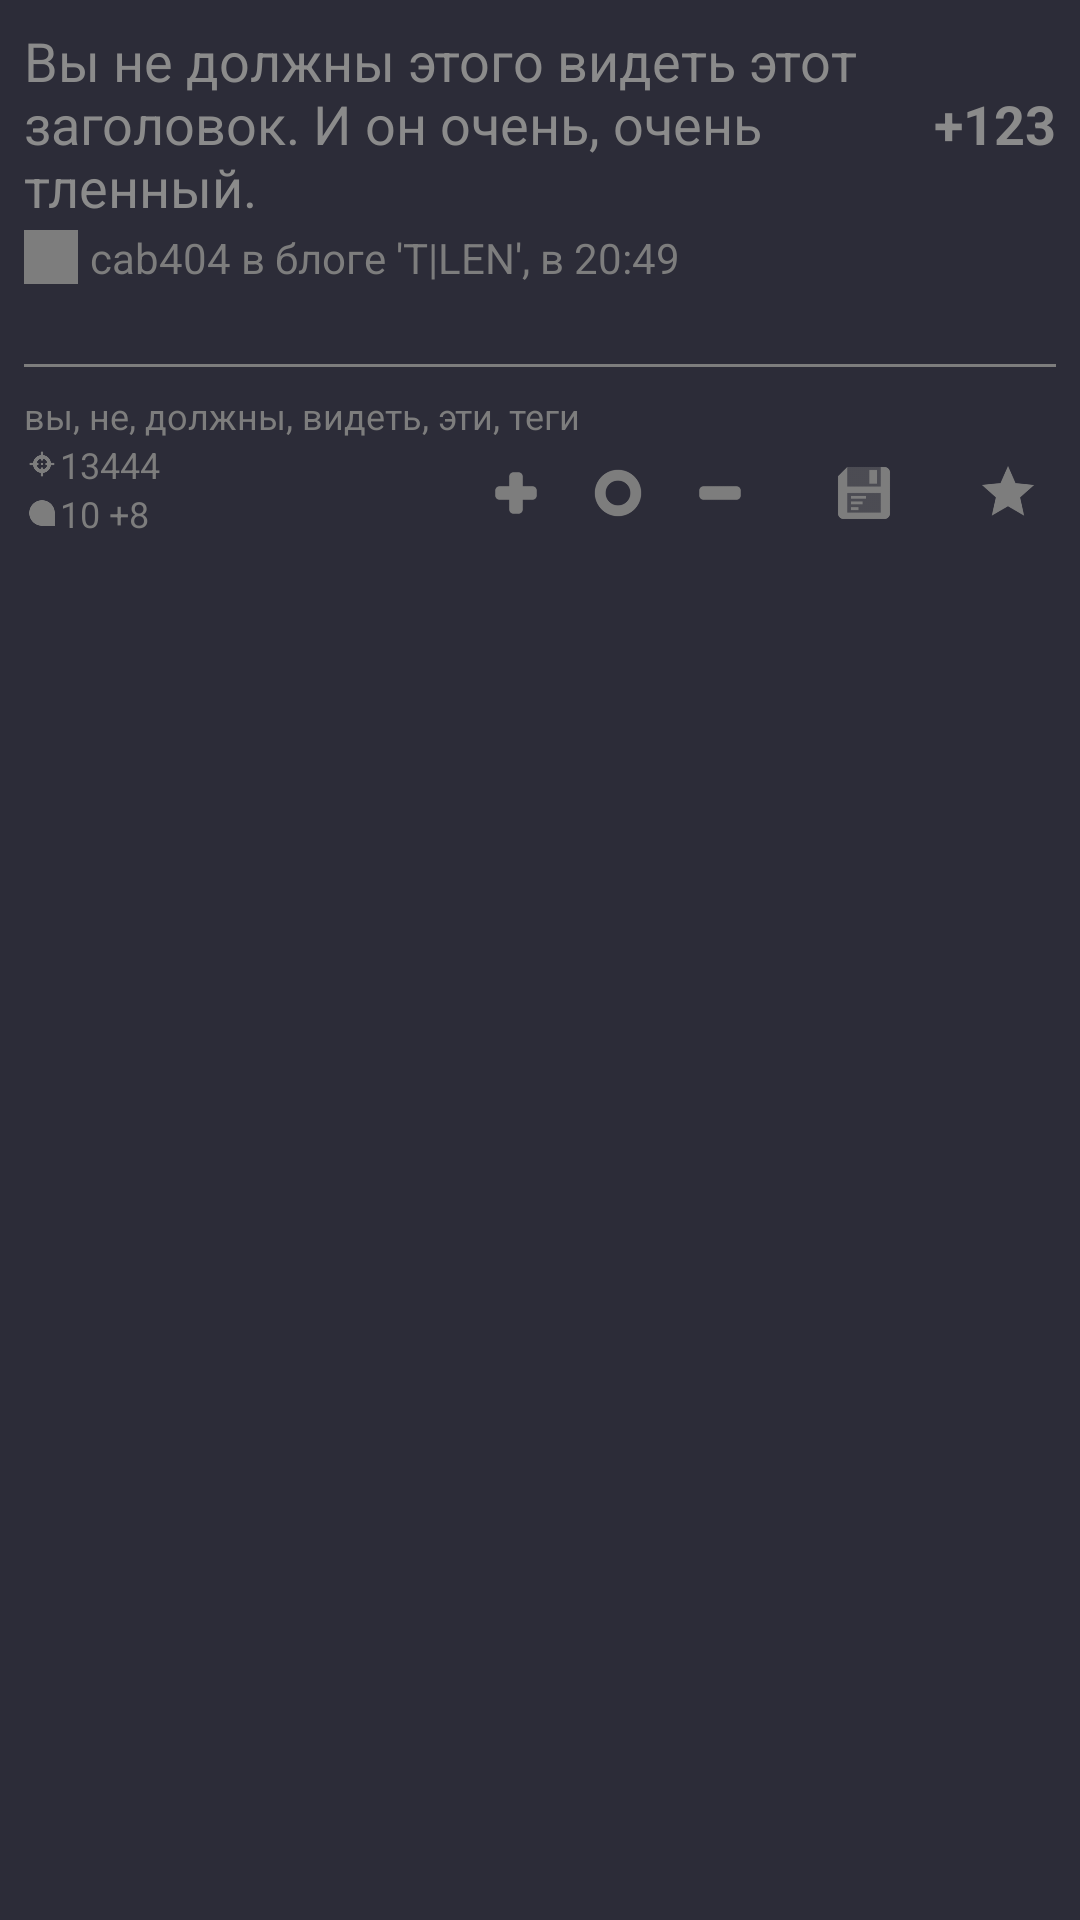

Screen size 1080px x 1920px. Icon name, then its center in pixels as (x=x, y=y):
bar fav: (x=1008, y=491)
bar minus: (x=720, y=493)
bar plus: (x=516, y=493)
bar zero: (x=618, y=493)
save: (x=864, y=493)
